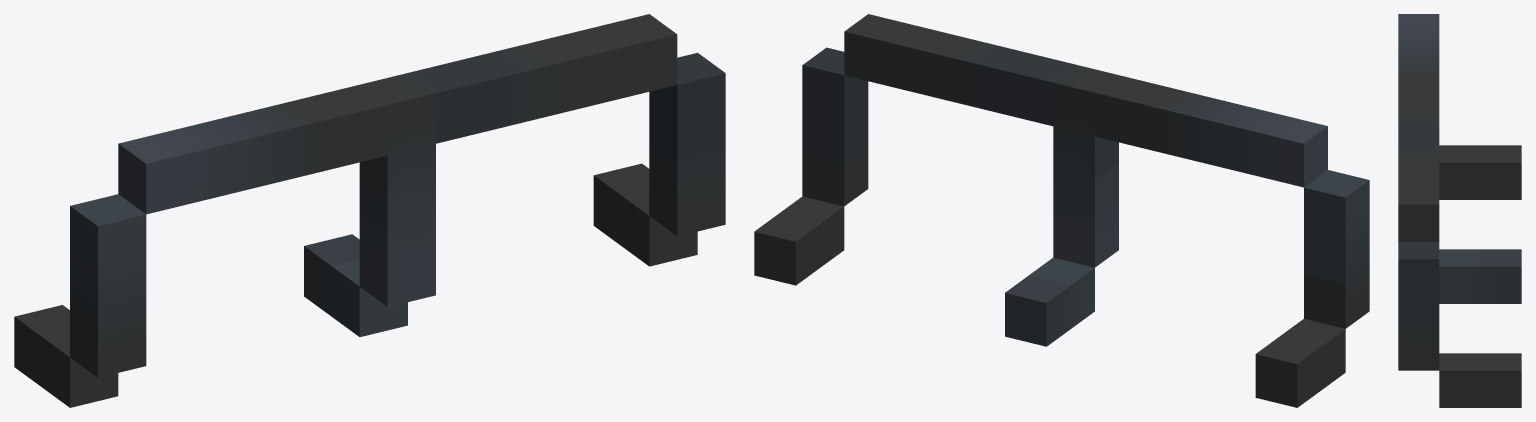
Rendered from Barrier-1.fbx.
3 renders of one model, left to right at view 1: azimuth 30°, elevation 25°; view 2: azimuth 150°, elevation 25°; view 3: azimuth 270°, elevation 25°, orthographic. The views are drawn at different scales.
Parts seen in each view (by area): view 1: Barrier_1; view 2: Barrier_1; view 3: Barrier_1.
Part boxes in pixels (bbox=[...]): Barrier_1: bbox=[14, 14, 725, 407]; Barrier_1: bbox=[754, 14, 1369, 407]; Barrier_1: bbox=[1398, 14, 1521, 407].
Size of the model in its own units: 130 by 50 by 30.
Materials: 1 (1 with a texture image).
